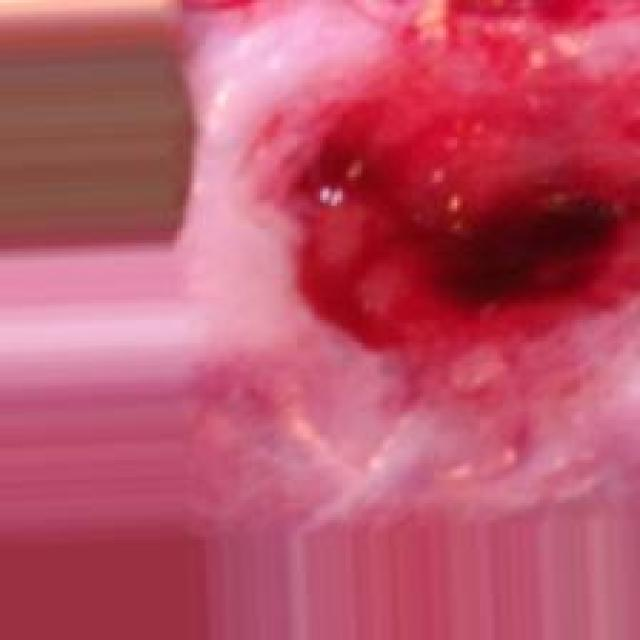type-1: (191, 9, 640, 477)
